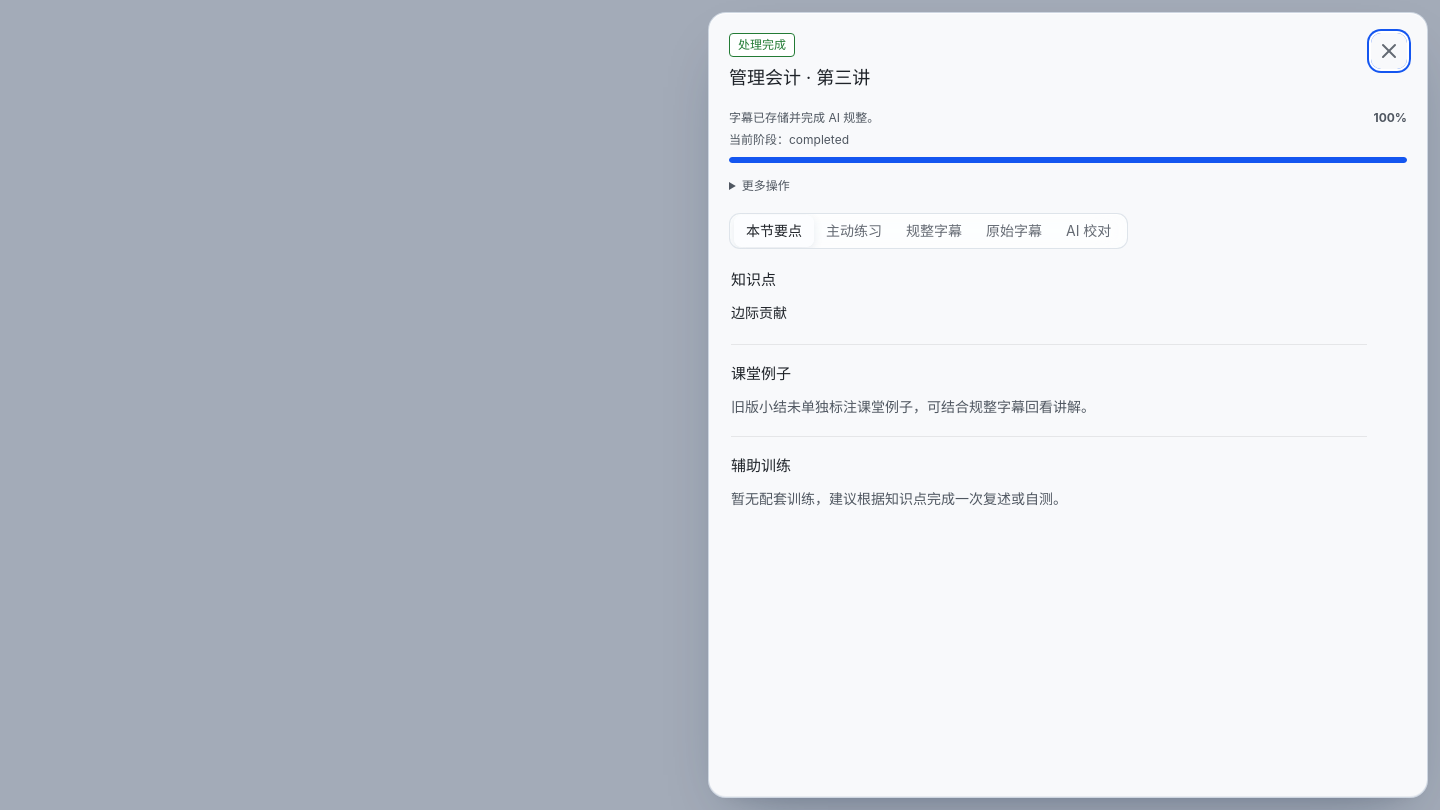
Test: TranscriptDetailDrawer Phase1 › 优先从 summary_json 的真实 study_guide.questions 读取主动练习
Expected: the text "边际贡献" is shown, [731,304,787,321]
Press the mouse on the tab "主动练习": coordinates (854, 231) [814,215,894,247]
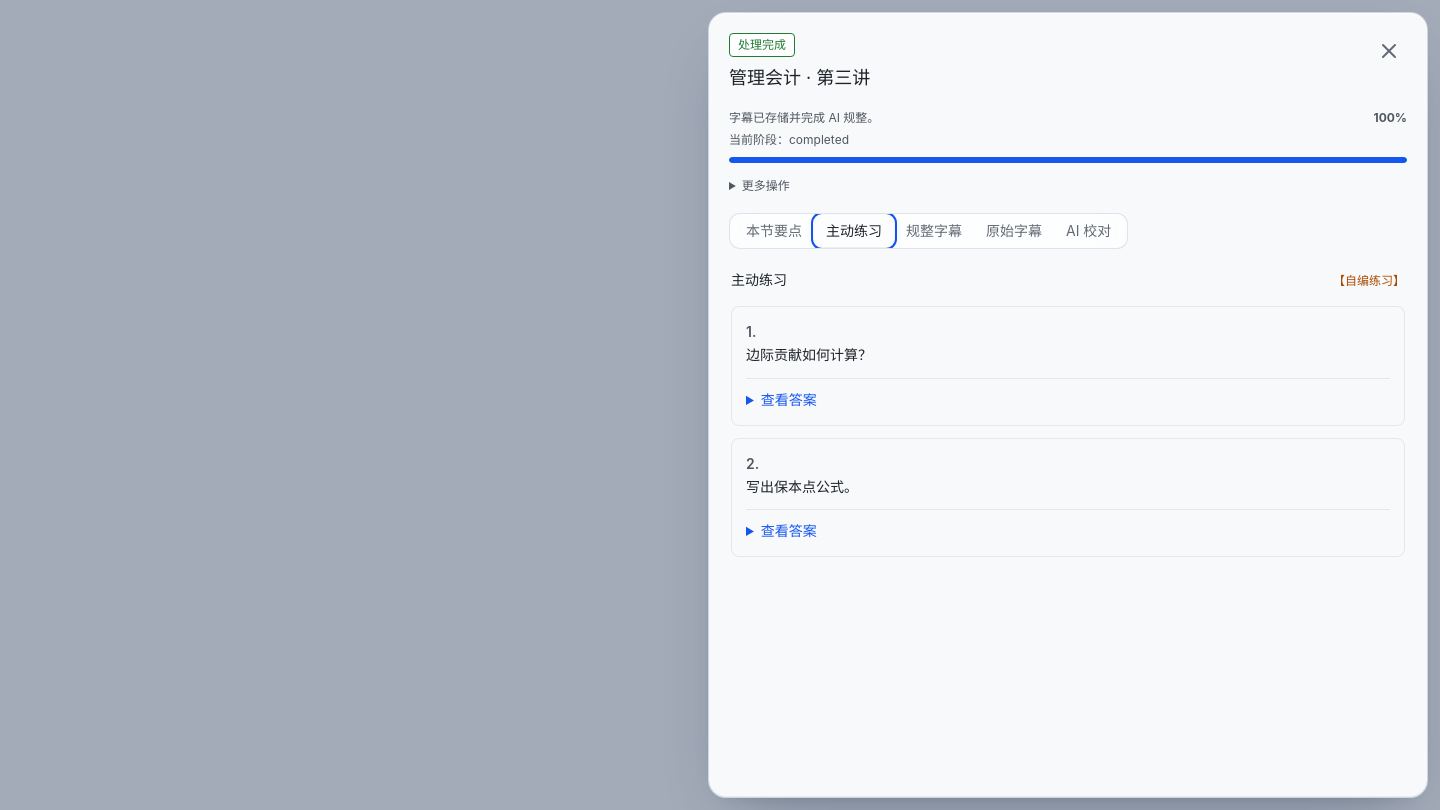
Expected: the text "【自编练习】" is shown, [1333,270,1405,292]
Expected: the text "边际贡献如何计算？" is shown, [746,346,872,363]
Expected: the number of headings "查看答案" is 2, [761,391,817,408]; [761,522,817,539]
